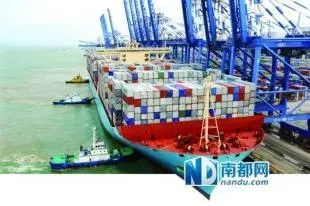Cargoship: (87, 42, 272, 171)
otherboat: (49, 134, 132, 169), (50, 90, 96, 106), (63, 68, 90, 83)
